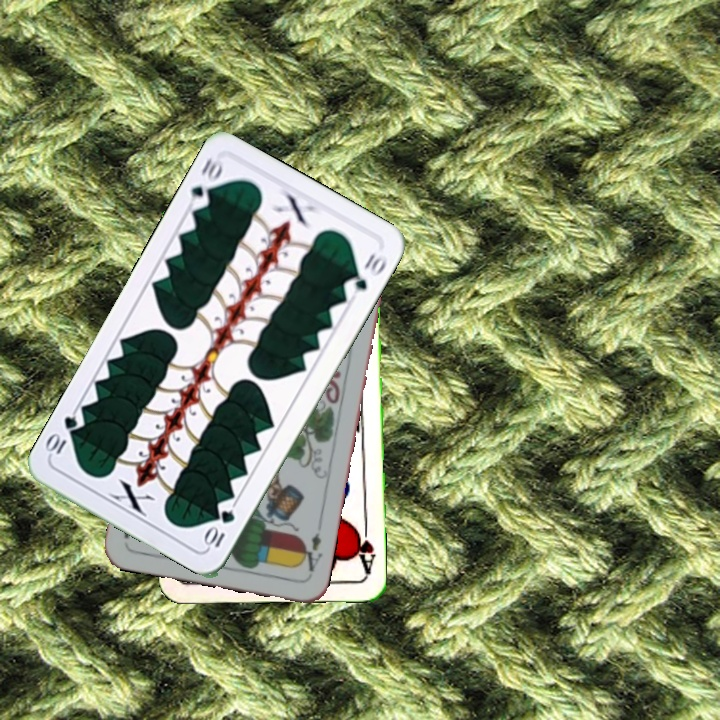EA: (296, 528, 326, 574)
G10: (185, 153, 226, 212), (201, 505, 238, 551)
HA: (350, 517, 378, 576)
